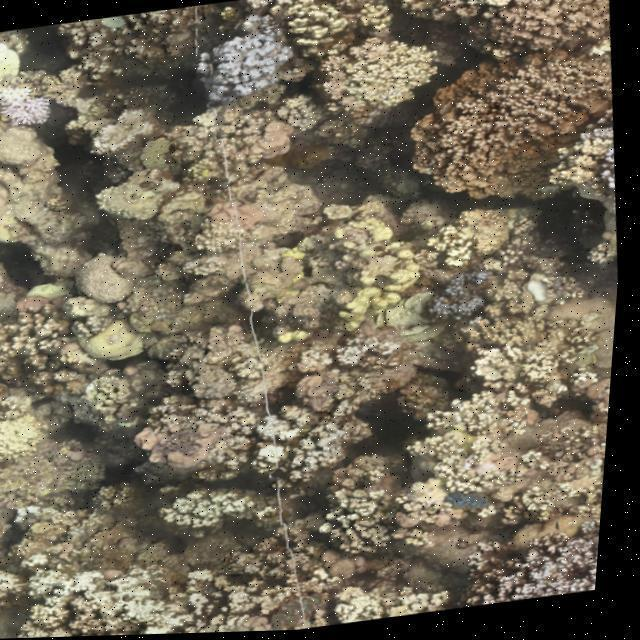Bleached Coral: (182, 14, 304, 112), (469, 523, 609, 608), (0, 73, 64, 134)
